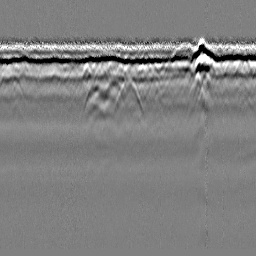cavity: (113, 79, 143, 114)
